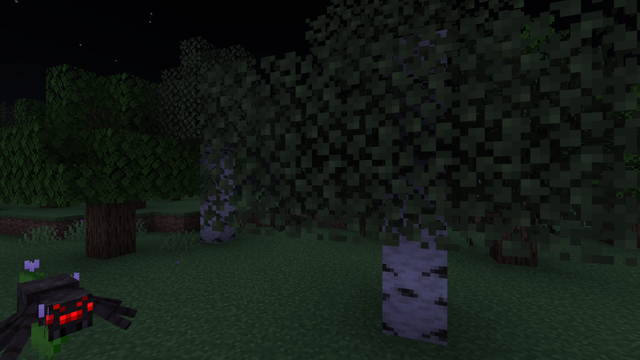araignees: (3, 266, 130, 358)
